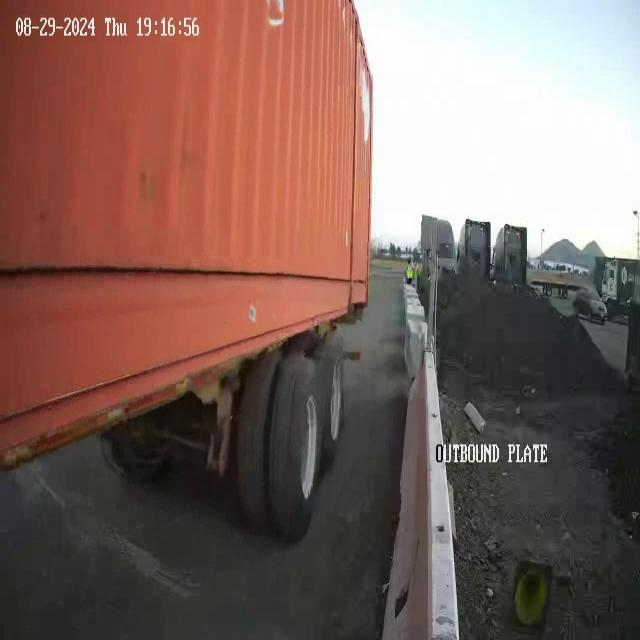TRUCK_OUT: (1, 1, 375, 539)
